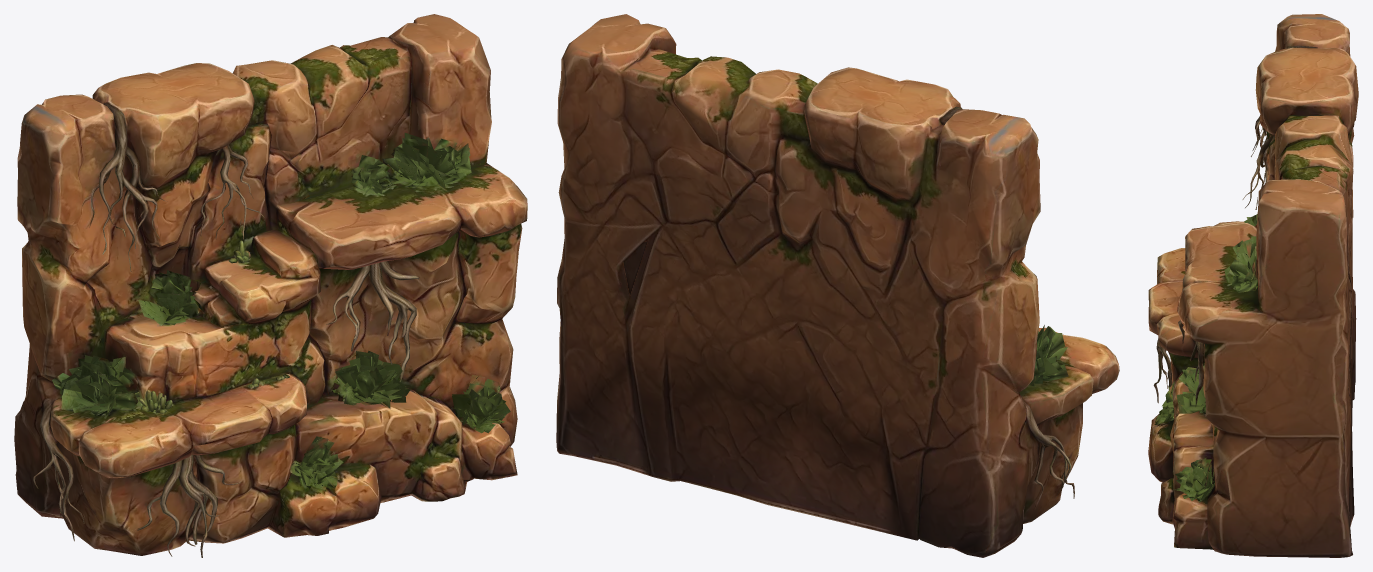
File: rockwall.glb
3 views of the same model, side by side, from view 1: azimuth 30°, elevation 25°; view 2: azimuth 150°, elevation 25°; view 3: azimuth 270°, elevation 25° (orthographic). The views are drawn at different scales.
Size of the model in its own units: 0.958 by 0.8038 by 0.4263.
Materials: 1 (1 with a texture image).
